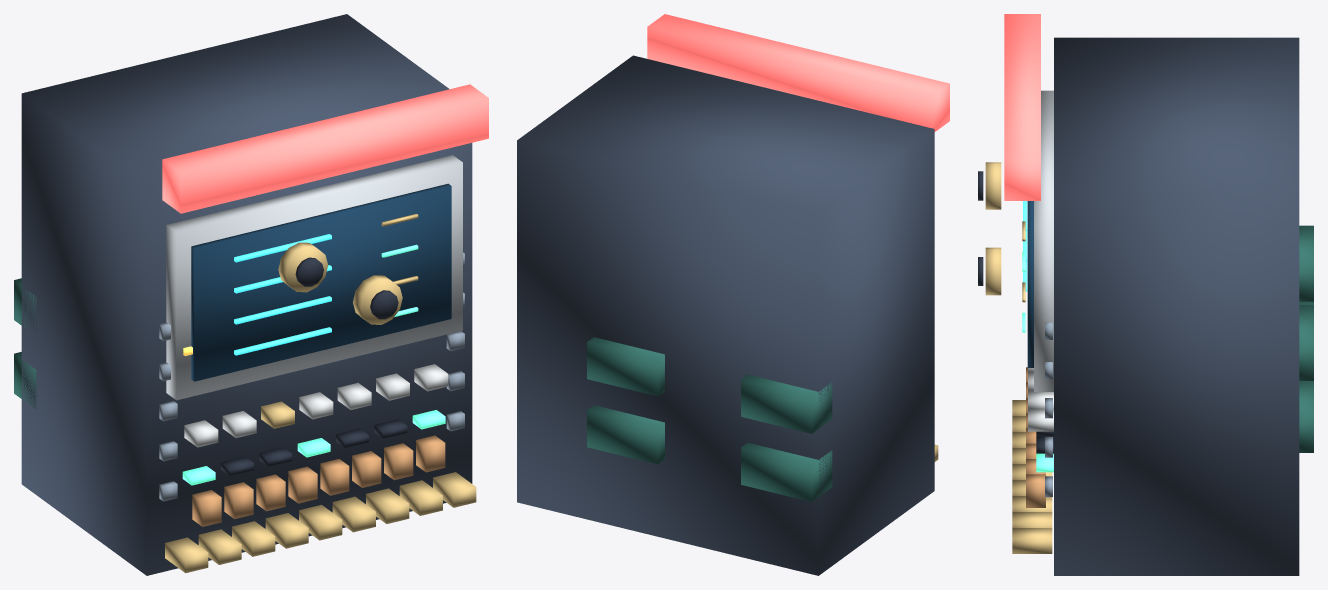
Rendered from 93_L91_EStopStation.glb.
3 renders of one model, left to right at view 1: azimuth 30°, elevation 25°; view 2: azimuth 150°, elevation 25°; view 3: azimuth 270°, elevation 25°, orthographic. The views are drawn at different scales.
Visible parts, largest first — view 1: L91_EStopStation, L91_EStopStation_Part_0013, L91_EStopStation_Part_0015, L91_EStopStation_Part_0016, L91_EStopStation_Part_0014; view 2: L91_EStopStation; view 3: L91_EStopStation, L91_EStopStation_Part_0015, L91_EStopStation_Part_0013.
Boxes of the visible parts, x1,y1,x2,y2 form: L91_EStopStation: (14,14,488,575); L91_EStopStation_Part_0013: (278,242,328,292); L91_EStopStation_Part_0015: (353,275,402,324); L91_EStopStation_Part_0016: (370,290,398,319); L91_EStopStation_Part_0014: (295,257,323,286); L91_EStopStation: (517,14,949,575); L91_EStopStation: (1004,14,1313,575); L91_EStopStation_Part_0015: (985,247,1001,295); L91_EStopStation_Part_0013: (985,162,1001,209).
Bounding box in the file's own units: 1 × 1.24 × 0.9163.
